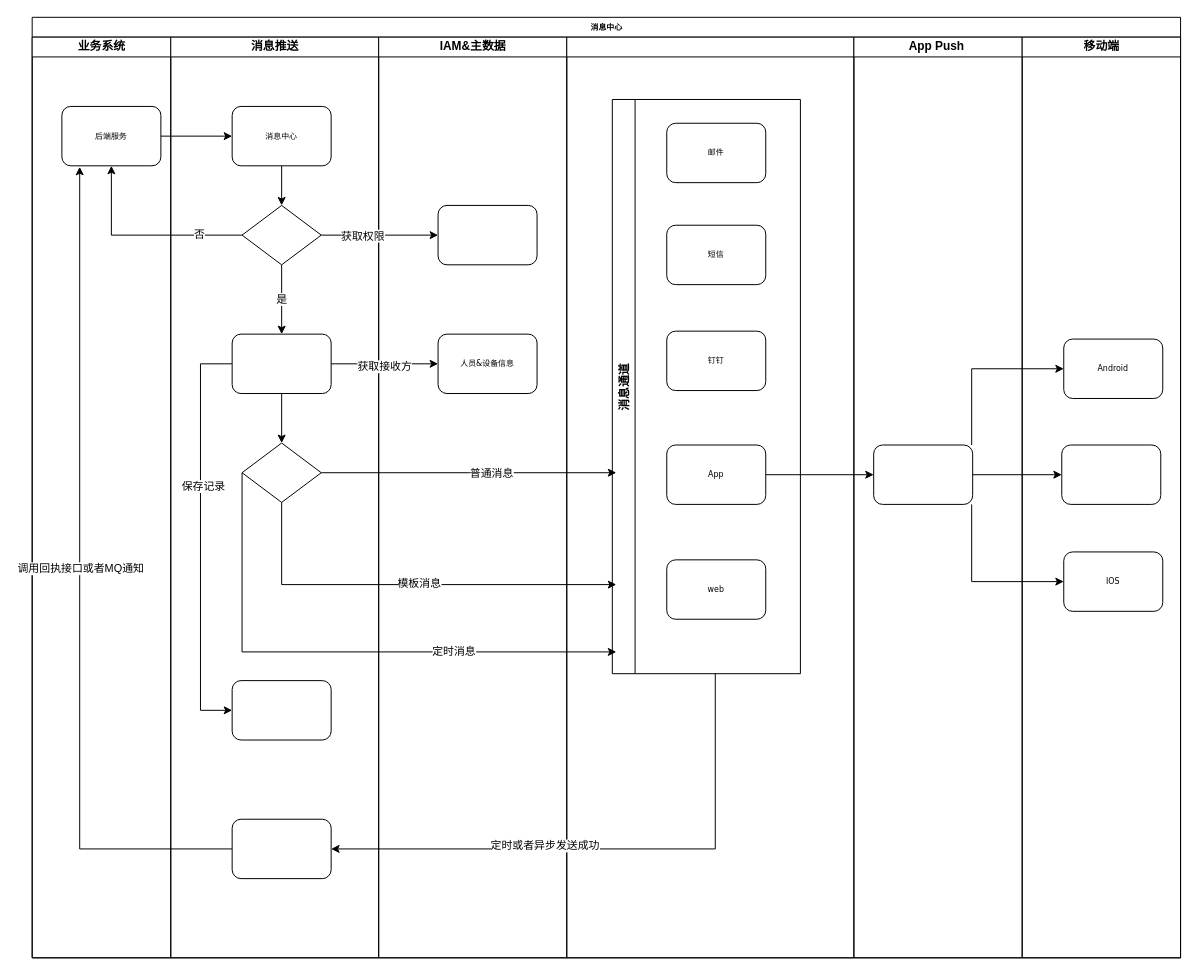
Image size: 1198x975. Some labels were removed from this diagram. Here are the shapes that lost their labels. From the top down, the centre of each, then its label:
At point (281, 234): "鉴权".
At point (487, 234): "获取授权信息".
At point (281, 363): "发送消息".
At point (281, 472): "发送方式".
At point (923, 474): "推送SDK".
At point (1111, 474): "其他智能设备".
At point (710, 497): "通道".
At point (281, 710): "消息记录".
At point (281, 848): "回调配置".
